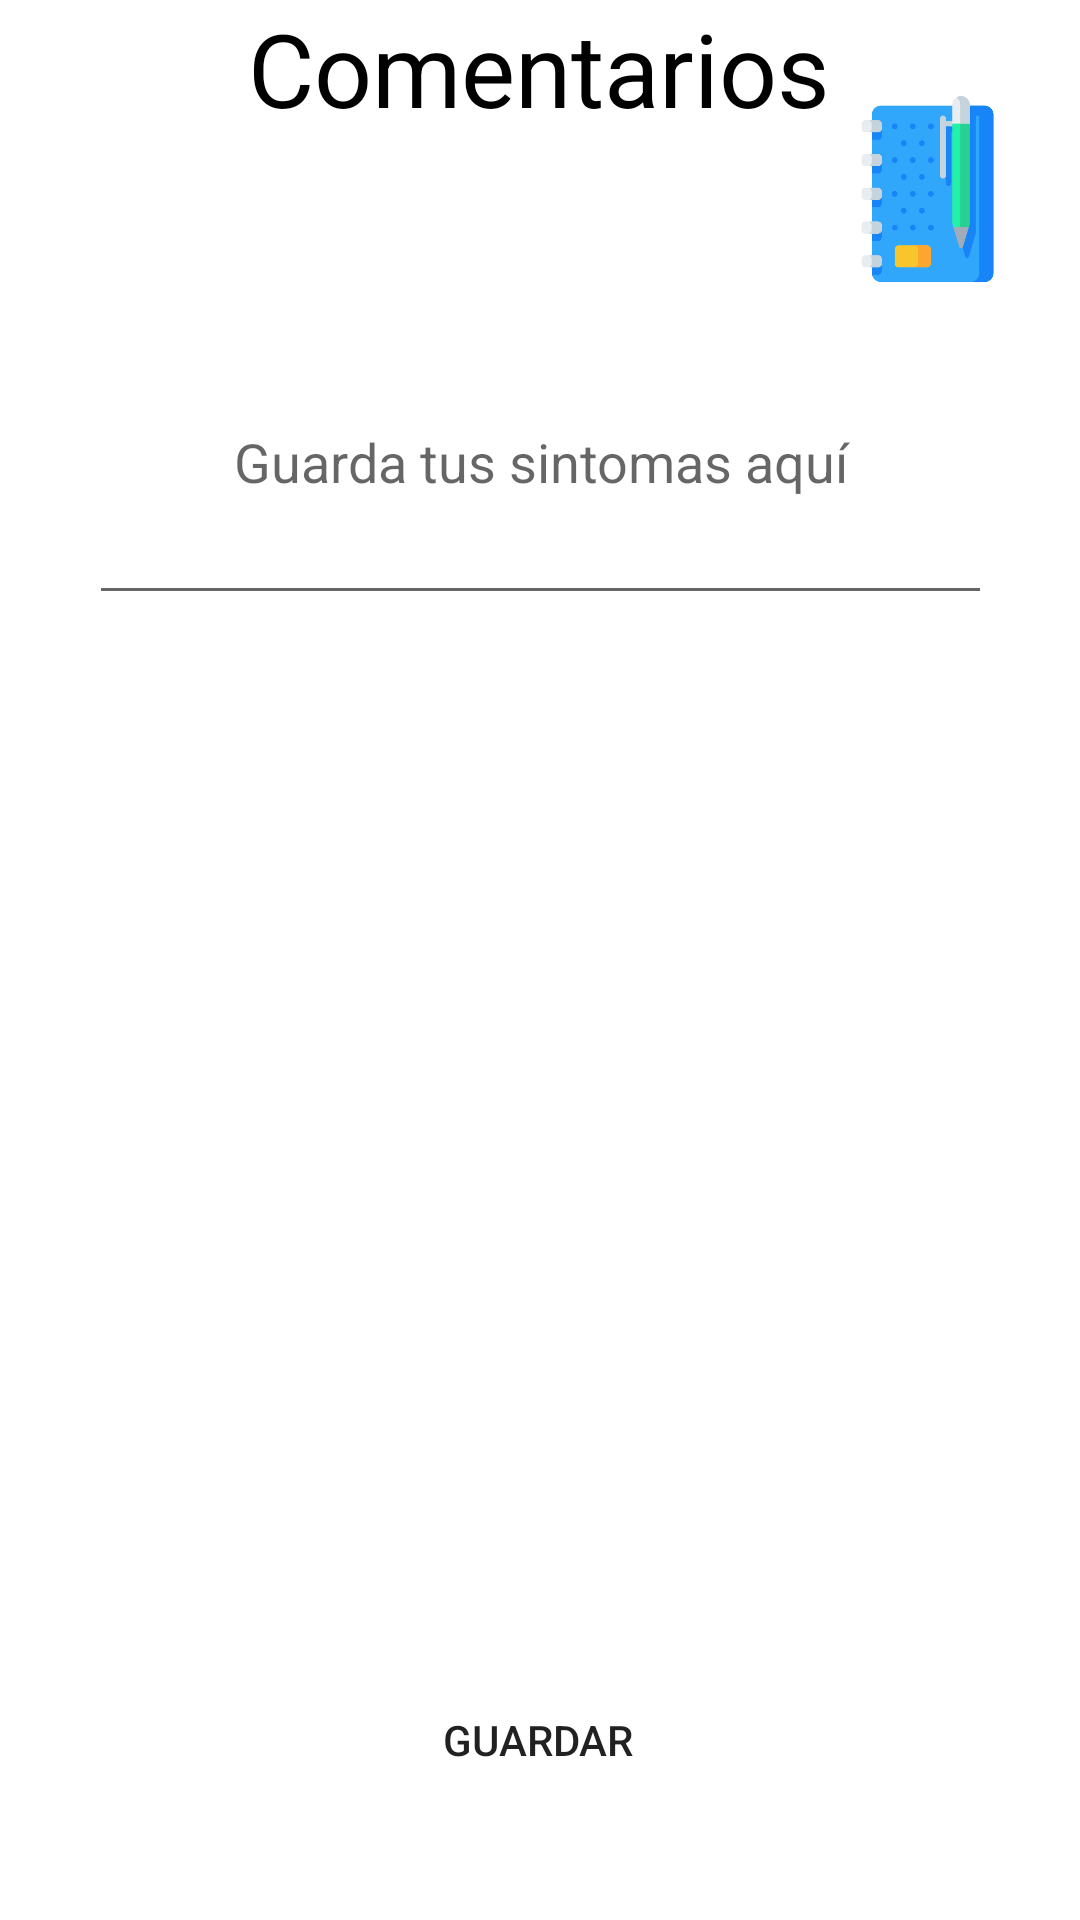

Where icons sit on this 1080w x 1920h app screen, as rect(x1, y1, x2, y2):
nota: rect(869, 96, 994, 282)
